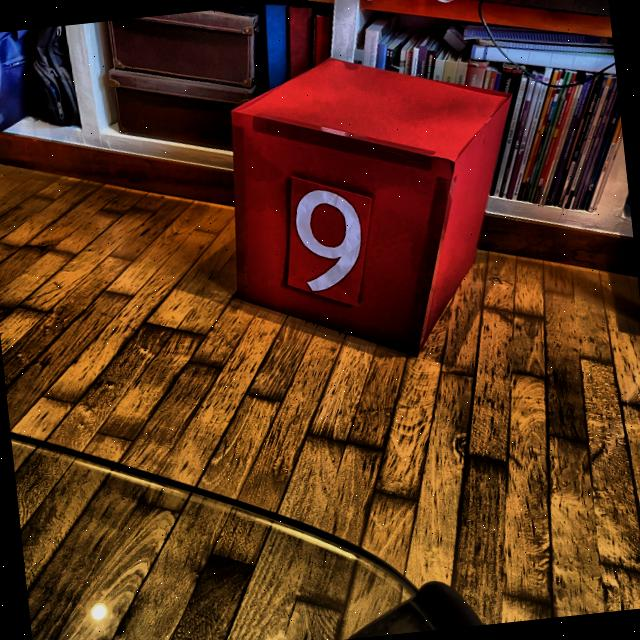nine: (286, 179, 370, 298)
red box: (212, 37, 531, 374)
